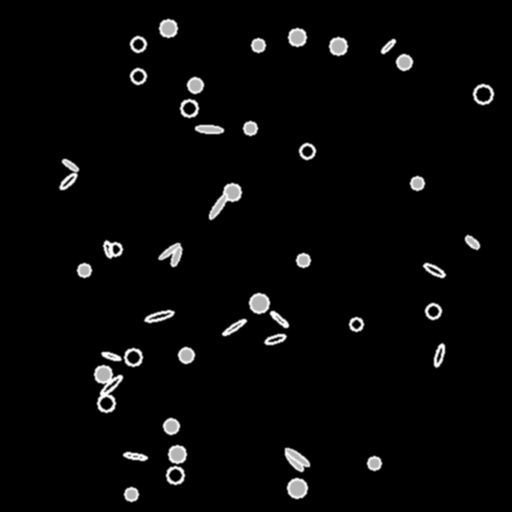pseudomonas: (99, 373, 123, 397), (208, 193, 228, 219), (221, 317, 247, 337), (284, 447, 310, 467), (283, 450, 305, 472), (144, 309, 174, 323), (158, 242, 180, 260), (58, 172, 78, 190), (269, 310, 289, 328), (423, 262, 445, 278), (169, 245, 183, 267), (264, 333, 286, 345), (433, 344, 445, 366), (380, 38, 396, 54), (464, 234, 480, 250), (61, 158, 79, 172), (195, 125, 223, 133), (102, 240, 114, 258), (102, 351, 120, 361), (124, 452, 146, 460)
synechocystis: (250, 294, 268, 312), (474, 85, 492, 103), (288, 479, 306, 497), (95, 366, 111, 382), (289, 29, 305, 45), (169, 446, 185, 462), (167, 467, 183, 483), (181, 100, 197, 116), (224, 184, 240, 200), (125, 349, 141, 365), (160, 20, 176, 36), (98, 395, 114, 411), (330, 38, 346, 54), (131, 37, 145, 51), (164, 419, 178, 433), (300, 144, 314, 158), (426, 304, 440, 318), (397, 55, 411, 69), (131, 69, 145, 83), (179, 348, 193, 362), (188, 78, 202, 92), (252, 39, 264, 51), (78, 264, 90, 276), (109, 243, 121, 255), (297, 254, 309, 266), (368, 457, 380, 469), (244, 122, 256, 134), (125, 488, 137, 500), (350, 318, 362, 330), (411, 177, 423, 189)
